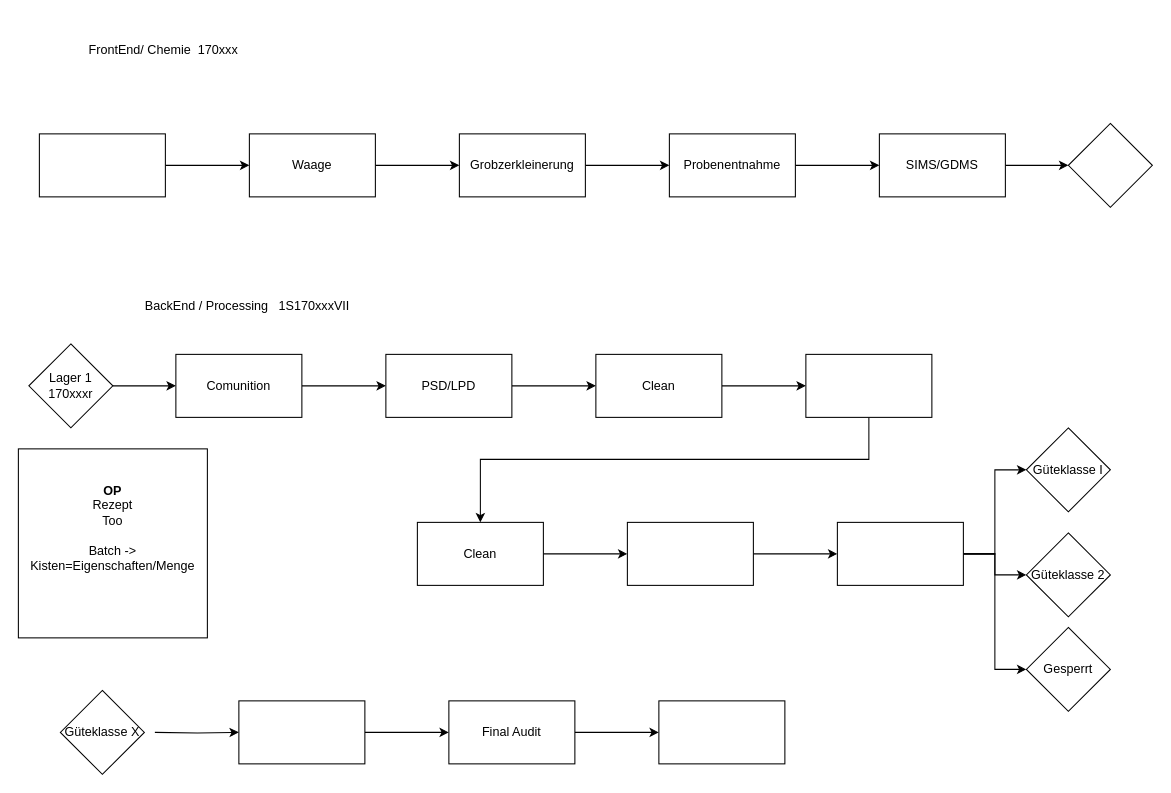
This 1171x793 diagram has some shape labels left out. The centre of each missing label's shape, as x and y in pixels:
Abscheidung: [101,165]
Anneal: [868,385]
ICPMS: [689,553]
Lager 1: [1109,164]
PreAudit (Verwendungsentscheid): [899,553]
Shipping: [721,732]
Verpackung/Labeln: [301,732]
